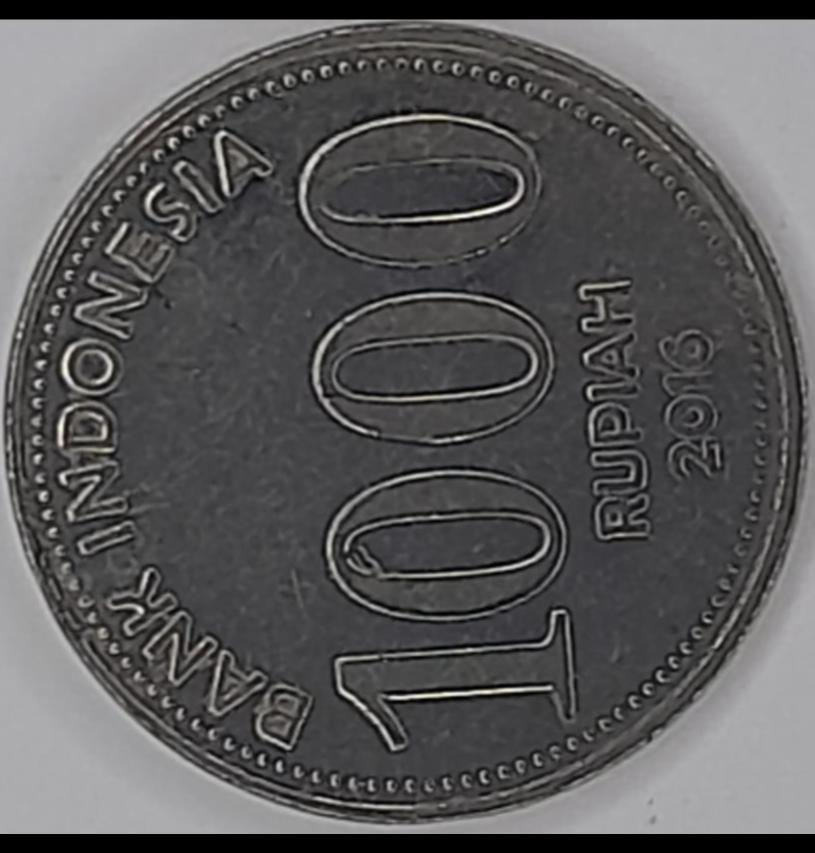coin_1000_e2016: (14, 17, 804, 853)
